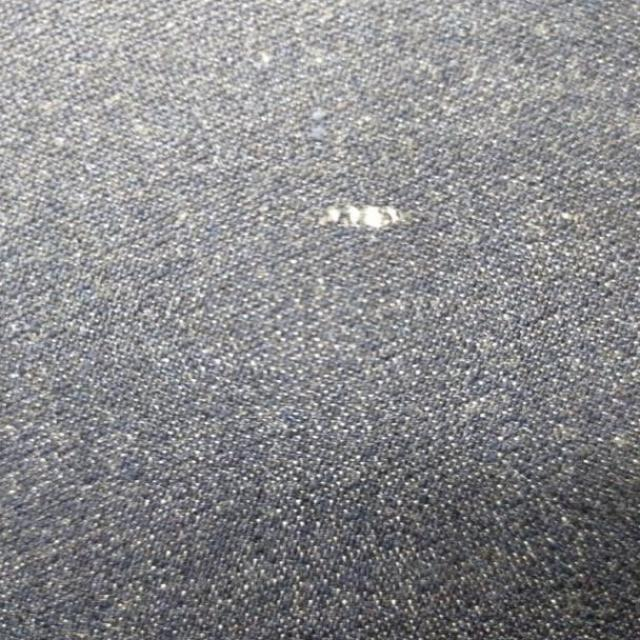Knot: (319, 206, 403, 229)
